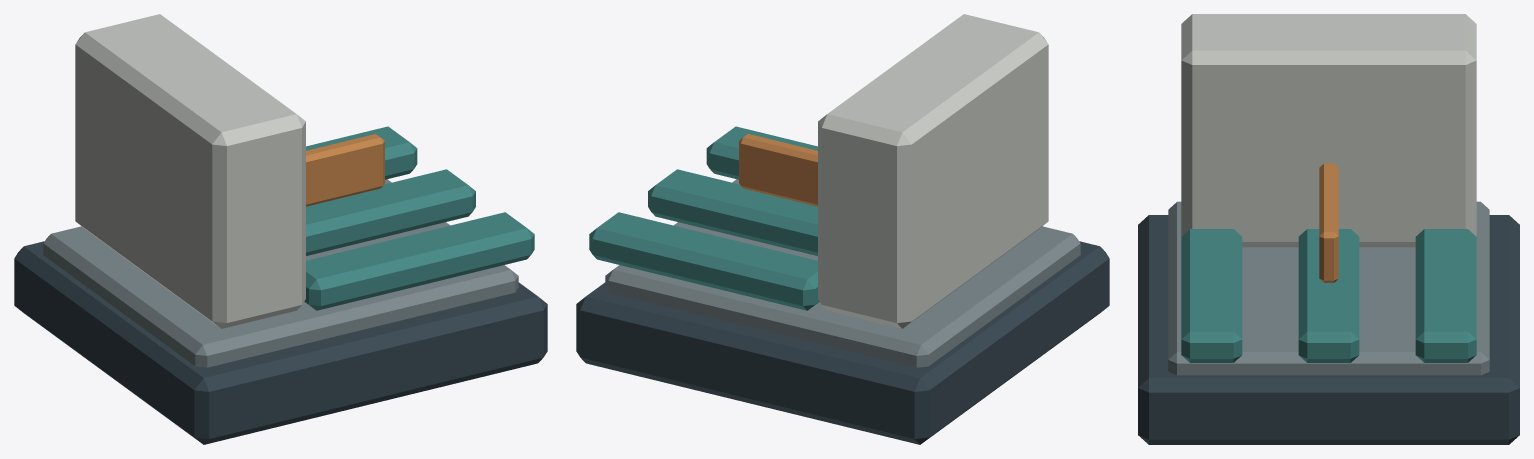
File: phw_sorter.glb
The picture shows the model from 3 angles, left to right: view 1: azimuth 30°, elevation 25°; view 2: azimuth 150°, elevation 25°; view 3: azimuth 270°, elevation 25°; orthographic projection.
Parts seen in each view (by area): view 1: body, flap; view 2: body, flap; view 3: body, flap.
Part boxes in pixels (x1=…): body: x1=14, y1=14, x2=547, y2=444; flap: x1=306, y1=134, x2=384, y2=206; body: x1=576, y1=14, x2=1109, y2=444; flap: x1=739, y1=134, x2=817, y2=206; body: x1=1138, y1=14, x2=1519, y2=444; flap: x1=1319, y1=163, x2=1338, y2=282.
Bounding box in the file's own units: 0.96 × 0.73 × 0.88.
